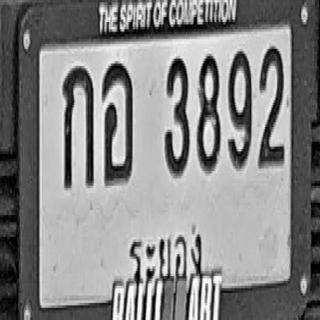A01: (62, 65, 93, 187)
A43: (102, 61, 133, 183)
N02: (258, 45, 284, 165)
N03: (164, 55, 190, 175)
N08: (197, 54, 220, 171)
N09: (228, 50, 251, 167)
P53: (124, 218, 207, 290)
